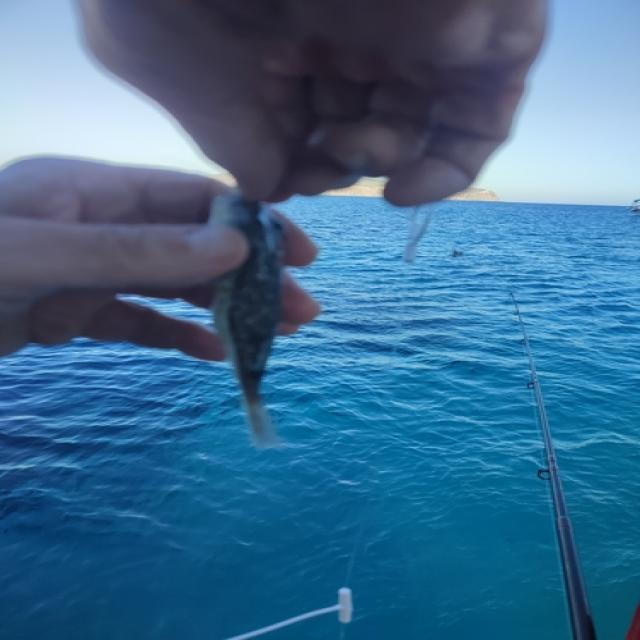Balik: (210, 190, 283, 446)
